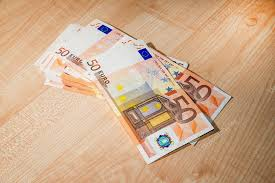billete: (37, 19, 232, 163)
